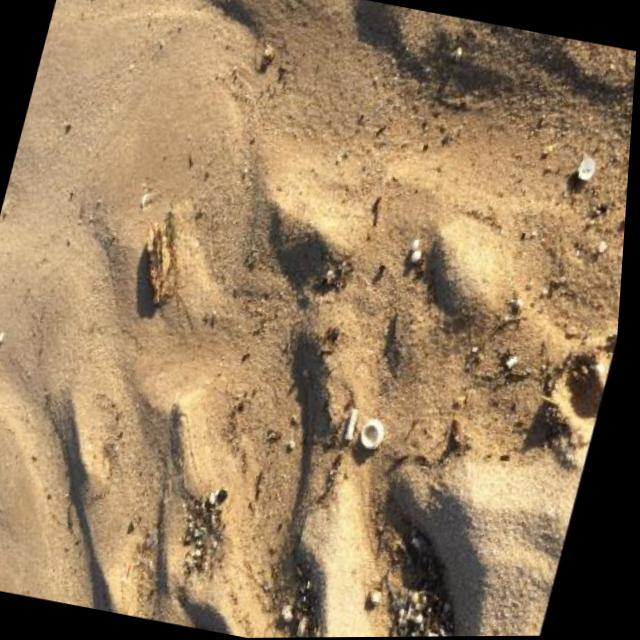plastic: (356, 416, 390, 454), (577, 156, 600, 184)
